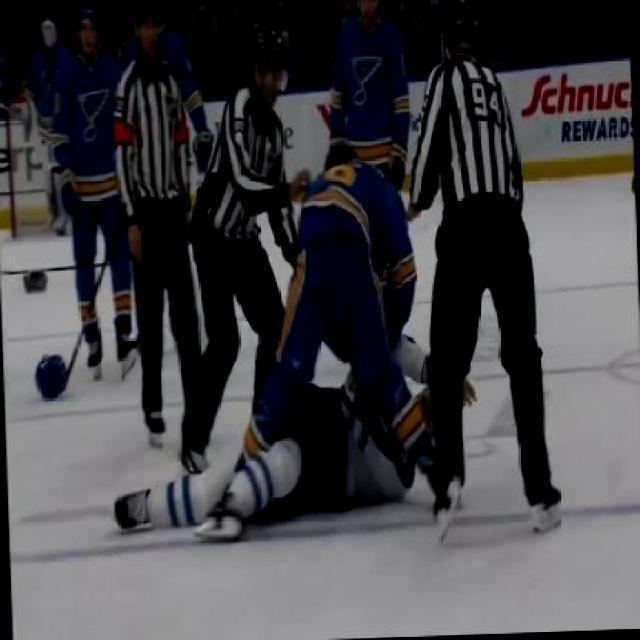fight: (256, 141, 429, 501)
non-fight: (414, 7, 556, 538), (111, 9, 206, 429), (53, 7, 139, 370)
